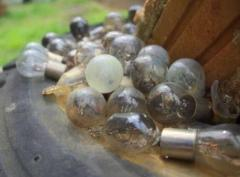lightbulb: (16, 4, 240, 176), (159, 122, 239, 176), (101, 111, 158, 153), (84, 54, 124, 94)
